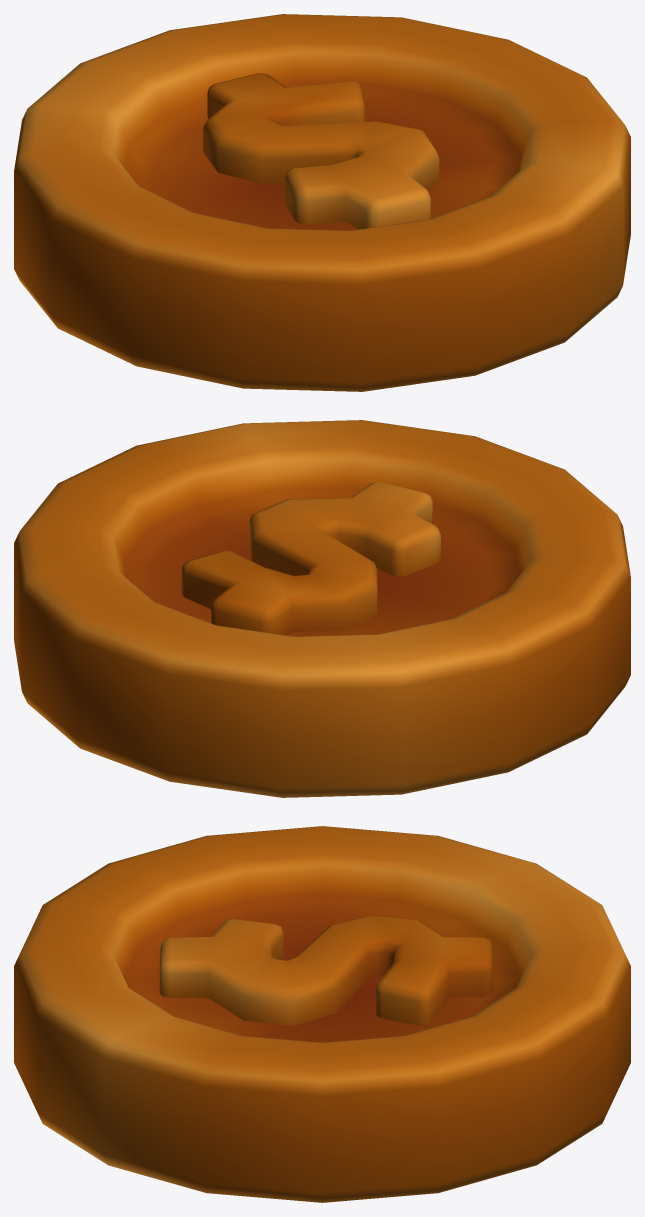
Rendered from SM_coin_002_copper.fbx.
3 renders of one model, top to bottom at view 1: azimuth 30°, elevation 25°; view 2: azimuth 150°, elevation 25°; view 3: azimuth 270°, elevation 25°, orthographic.
Parts seen in each view (by area): view 1: SM_coin_002_copper; view 2: SM_coin_002_copper; view 3: SM_coin_002_copper.
Boxes of the visible parts, x1=… form: SM_coin_002_copper: x1=14, y1=14, x2=630, y2=391; SM_coin_002_copper: x1=14, y1=420, x2=630, y2=797; SM_coin_002_copper: x1=14, y1=826, x2=630, y2=1202.
Bounding box in the file's own units: 50 × 11.7 × 50.
